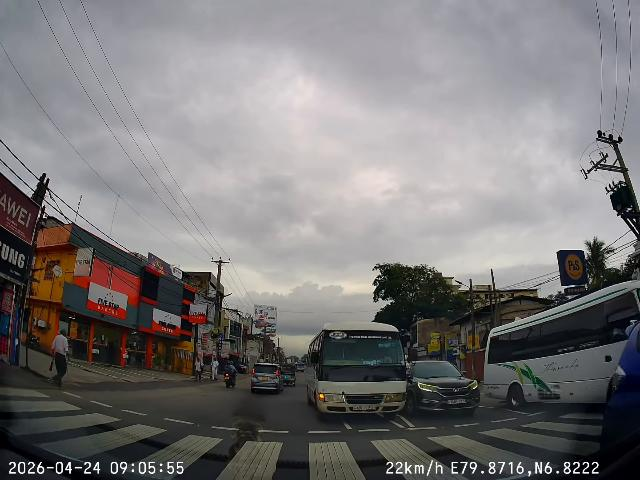illegal overtaking: (300, 307, 412, 424)
number plate: (348, 402, 380, 414)
